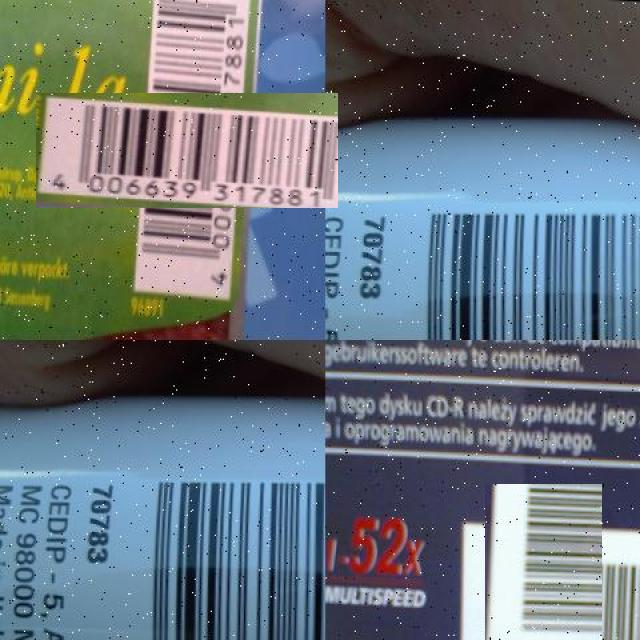Barcode: (82, 46, 292, 255), (113, 447, 325, 640), (386, 194, 640, 340), (465, 503, 621, 640)
